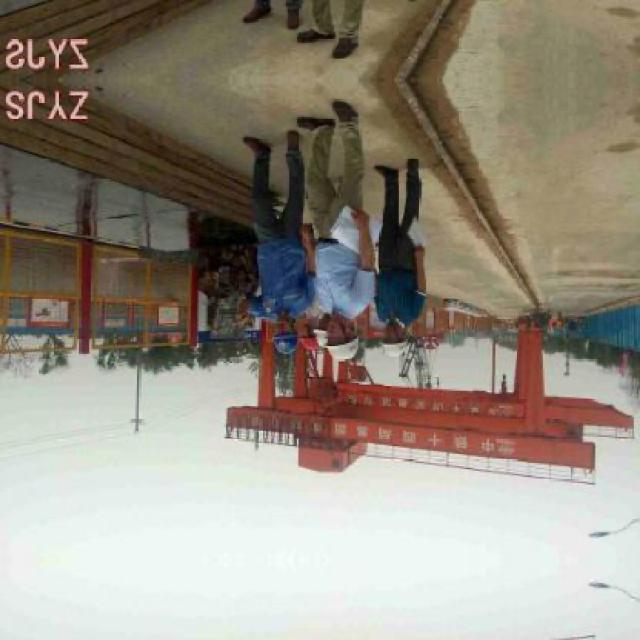con casco: (368, 288, 429, 382), (319, 275, 372, 382), (260, 286, 316, 374)
